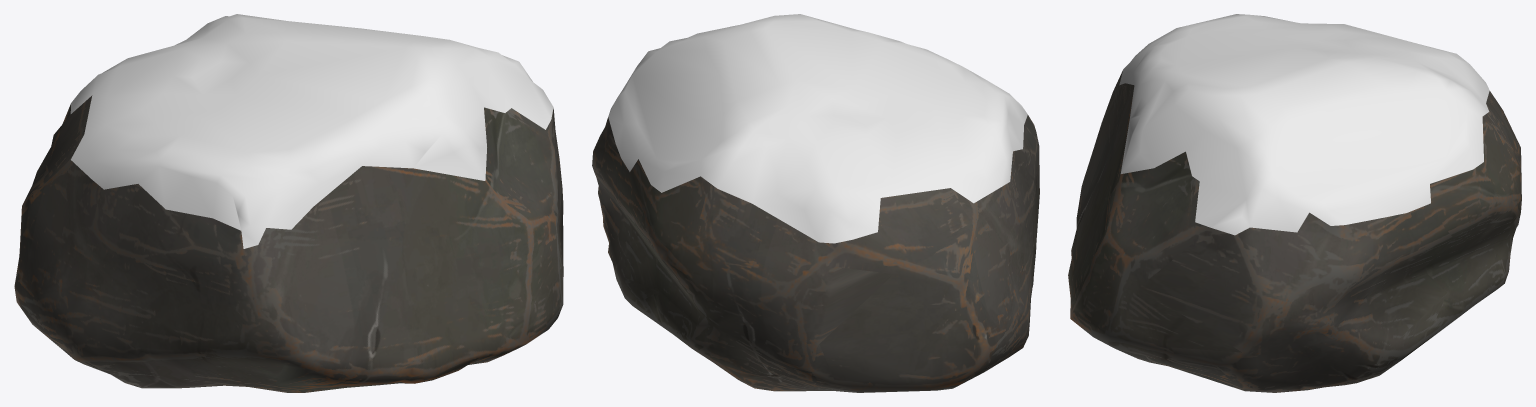
The model's file is rock.fbx.
The picture shows the model from 3 angles, left to right: view 1: azimuth 30°, elevation 25°; view 2: azimuth 150°, elevation 25°; view 3: azimuth 270°, elevation 25°; orthographic projection. The views are drawn at different scales.
Visible parts, largest first — view 1: Rock, Rock.001; view 2: Rock, Rock.001; view 3: Rock, Rock.001.
Boxes of the visible parts, bbox=[...] form: Rock: bbox=[14, 95, 563, 392]; Rock.001: bbox=[70, 14, 553, 248]; Rock: bbox=[592, 115, 1039, 392]; Rock.001: bbox=[608, 14, 1027, 243]; Rock: bbox=[1068, 70, 1521, 392]; Rock.001: bbox=[1119, 14, 1489, 235].
Size of the model in its own units: 254 by 150 by 221.
2 materials, 1 textured.
